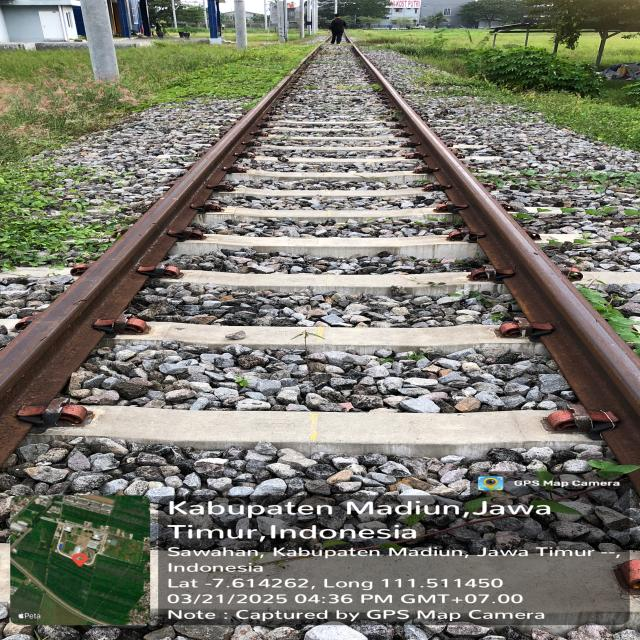rail-detection: (353, 49, 640, 464), (0, 76, 294, 458)
